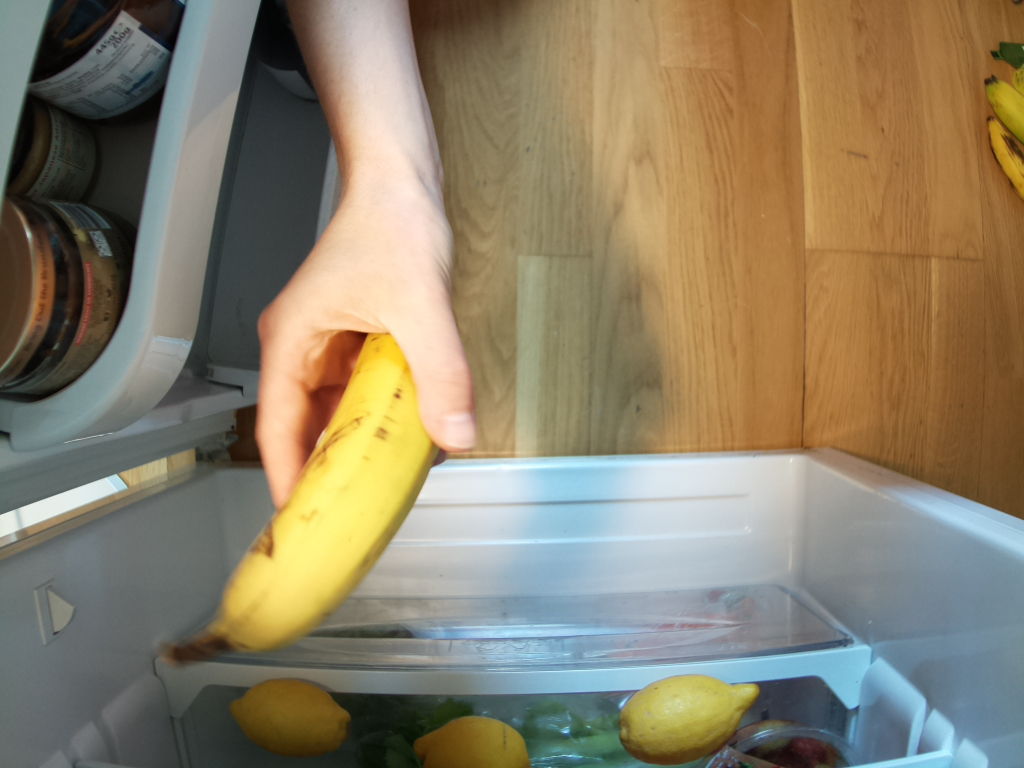banana: (161, 324, 433, 673)
